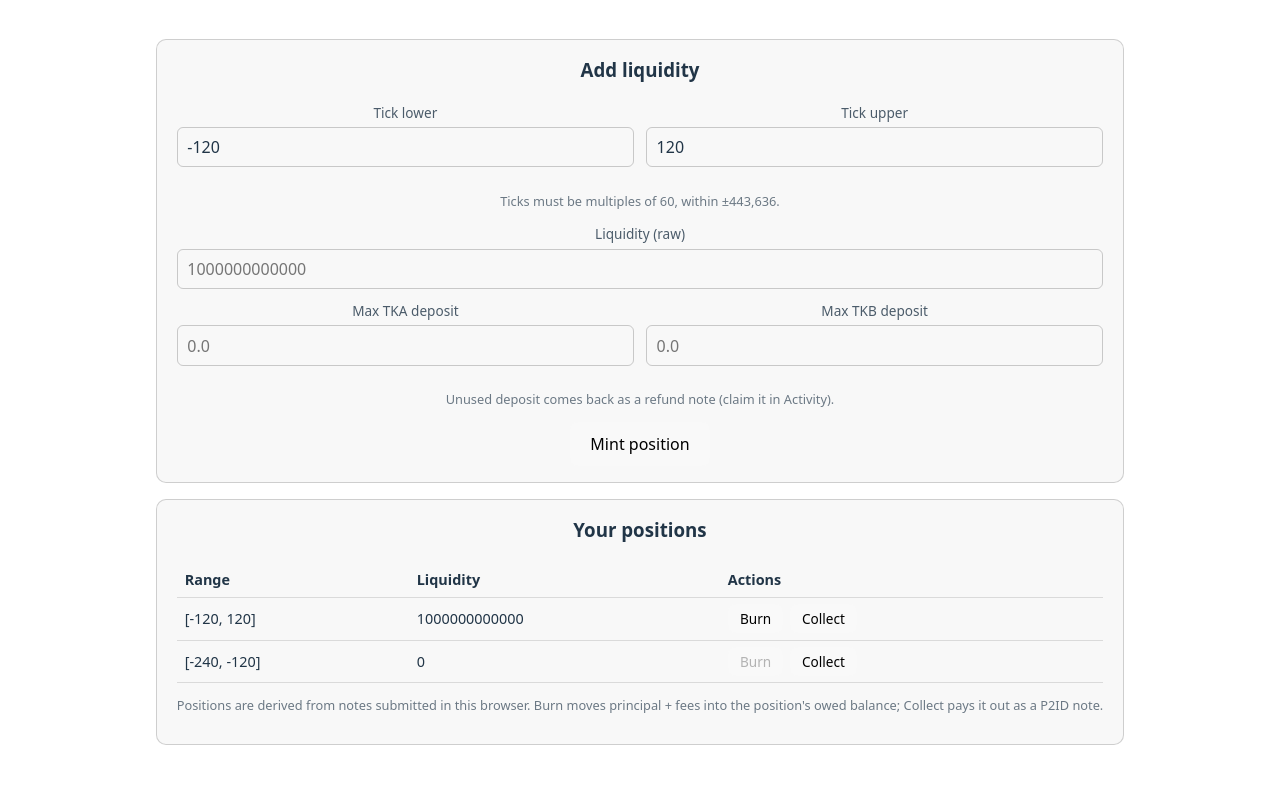
Test case: Positions mint form › rejects misaligned ticks (tick spacing 60)
Replace the text in the field labelled "Tick lower" with "-121" at (405, 147), box x1=177 y1=127 x2=634 y2=167
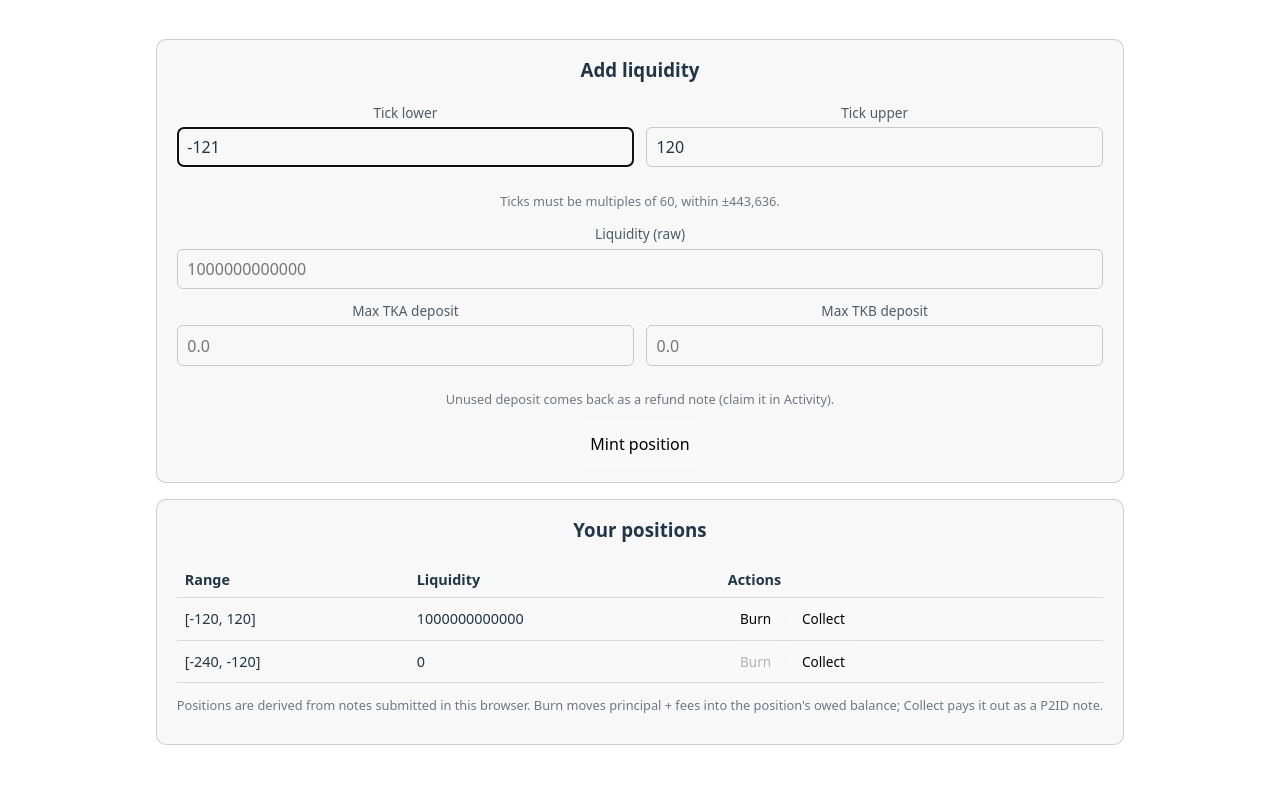
Type "1000" into the field labelled "Liquidity (raw)" at (640, 269), box x1=177 y1=248 x2=1103 y2=289
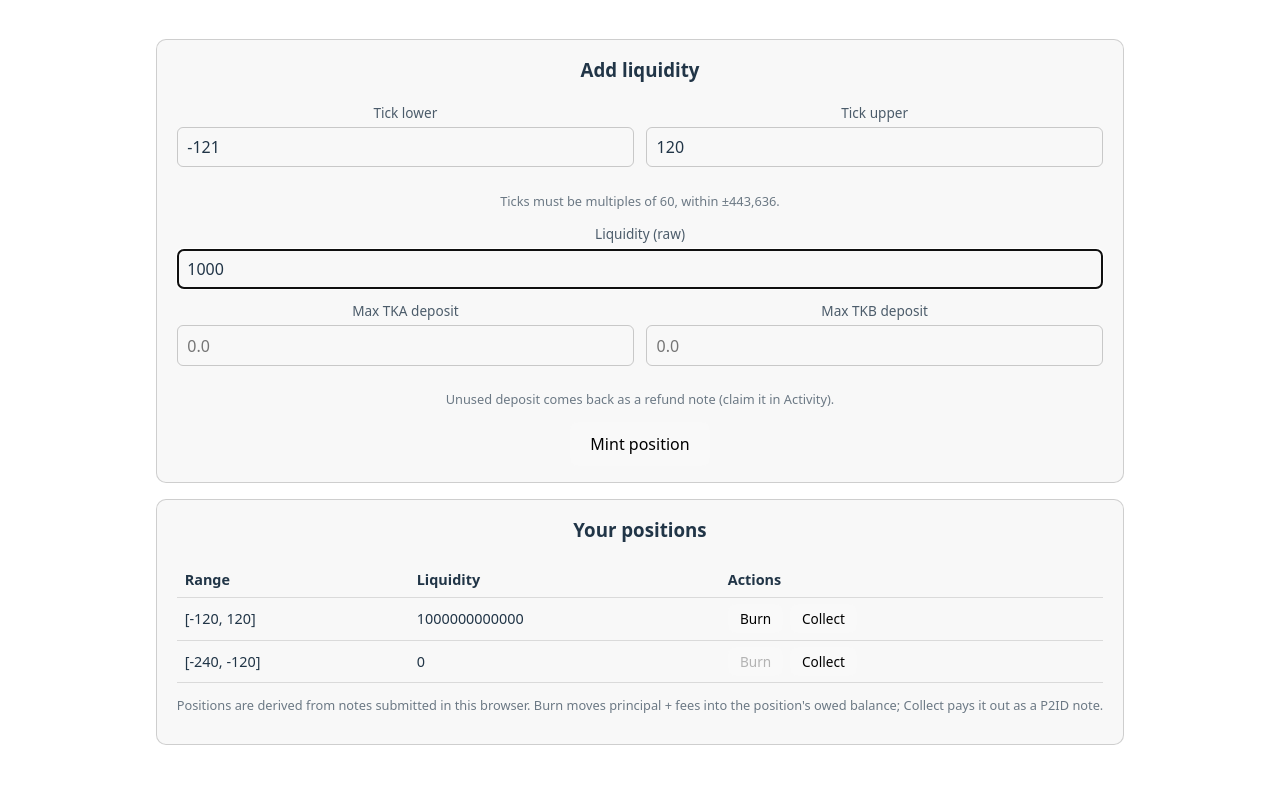
Type "1" into the field labelled "Max TKA deposit" at (405, 346), box x1=177 y1=325 x2=634 y2=366
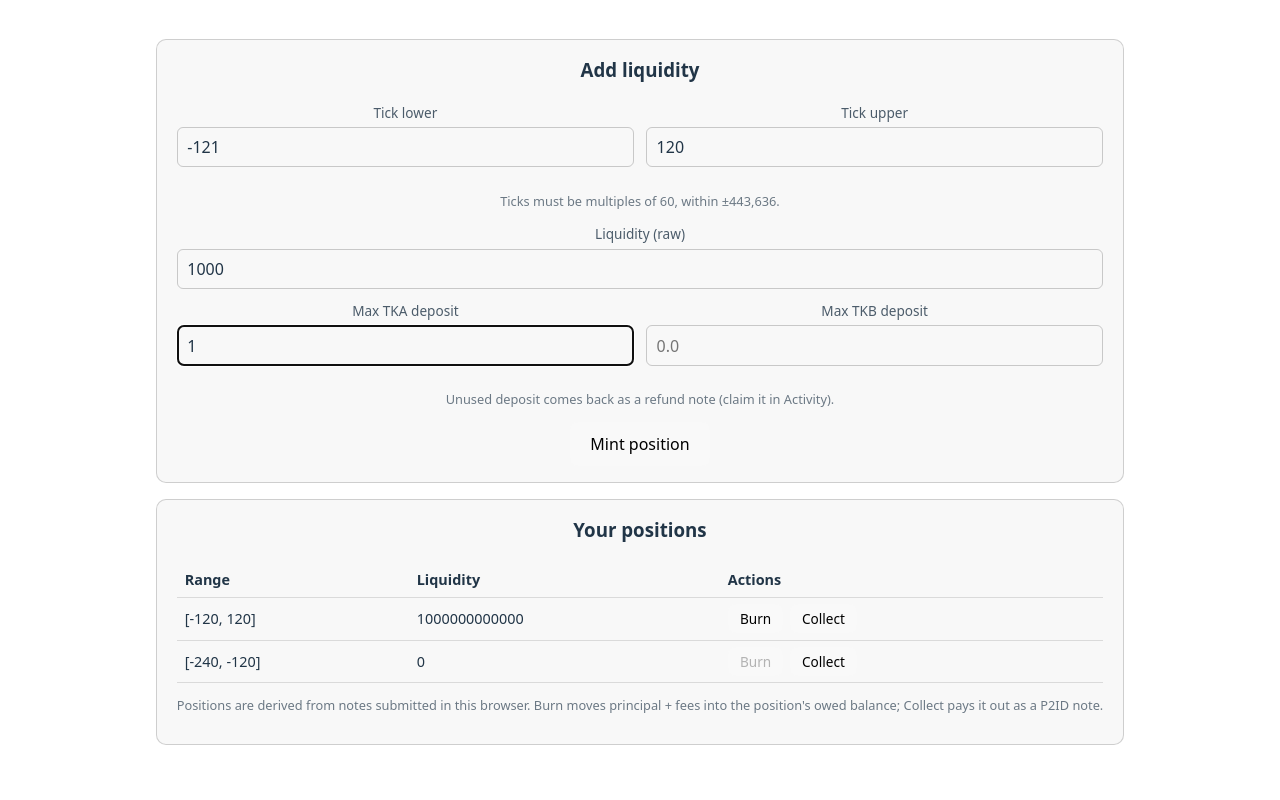
Click the button "Mint position" at (640, 444), box x1=570 y1=422 x2=710 y2=466
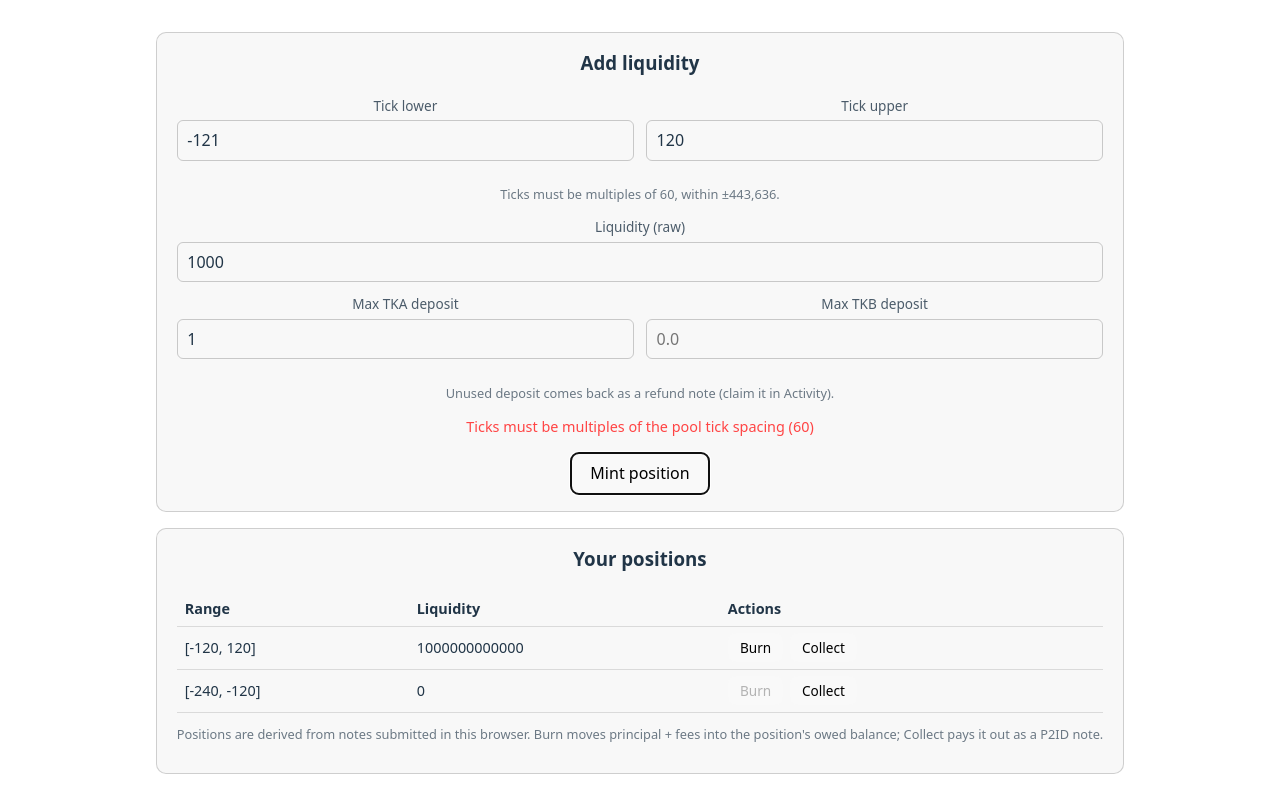
Check: the message shows "multiples of the pool tick spacing", box x1=466 y1=417 x2=814 y2=436
